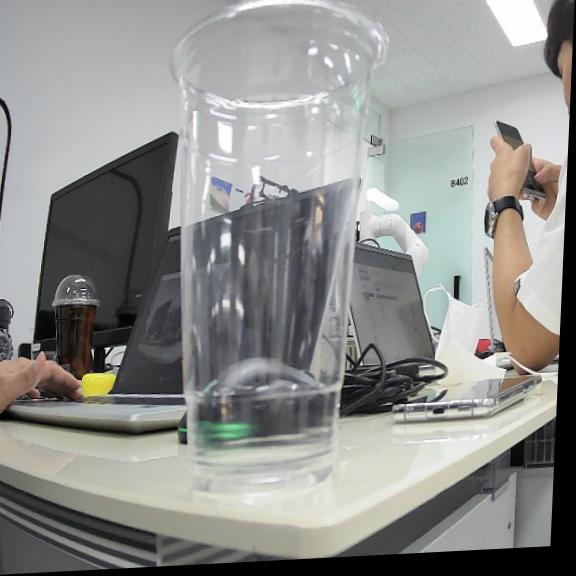Plastik: (172, 0, 388, 502)
